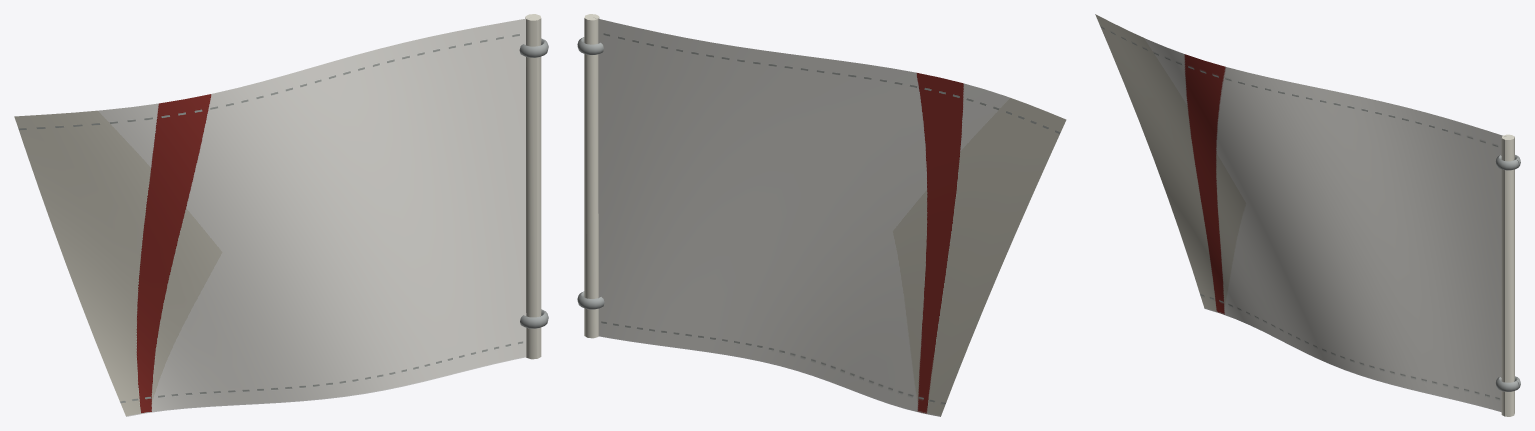
The model's file is Pennant_13_R_黒潮・片流れ.glb.
3 views of the same model, side by side, from view 1: azimuth 30°, elevation 25°; view 2: azimuth 150°, elevation 25°; view 3: azimuth 330°, elevation 25° (orthographic). The views are drawn at different scales.
Parts seen in each view (by area): view 1: Pennant_13_R; view 2: Pennant_13_R; view 3: Pennant_13_R.
Part boxes in pixels (box(x1,y1,x2,y2)): Pennant_13_R: box(14, 14, 548, 416); Pennant_13_R: box(577, 14, 1066, 416); Pennant_13_R: box(1095, 14, 1520, 416).
Bounding box in the file's own units: 0.2925 × 0.1911 × 0.0294.
3 materials, 3 textured.
